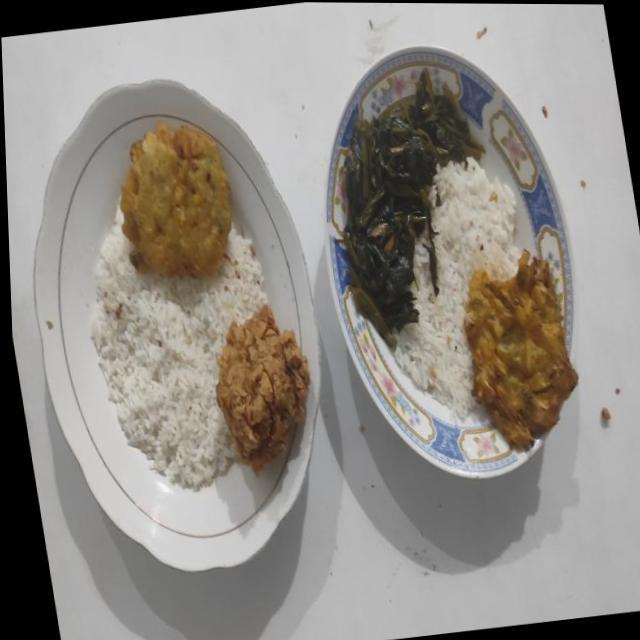nasi_putih: (90, 219, 267, 490), (395, 158, 519, 418)
tumis_kangkung: (338, 68, 484, 348)
